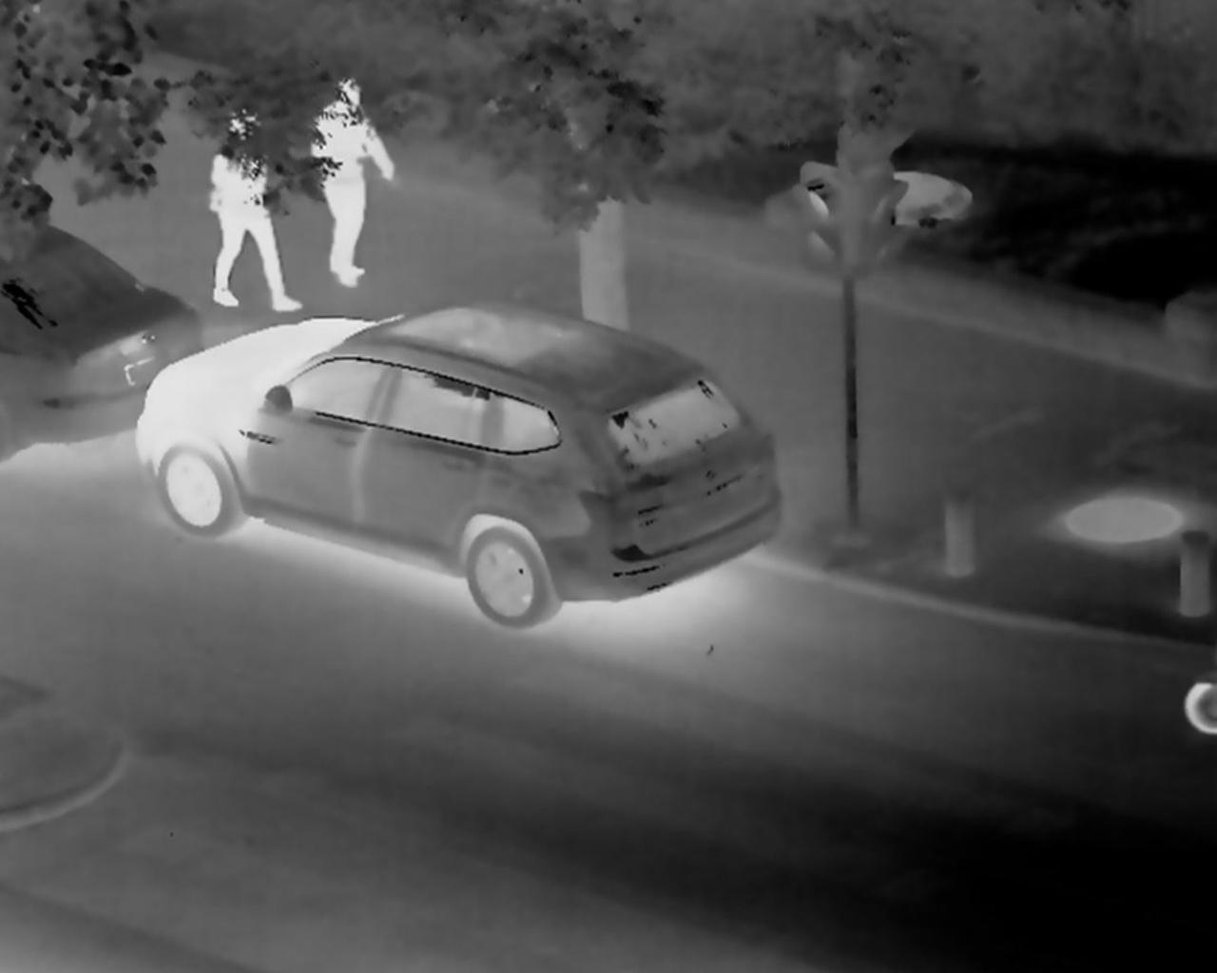person: (218, 95, 304, 321), (310, 76, 384, 276)
